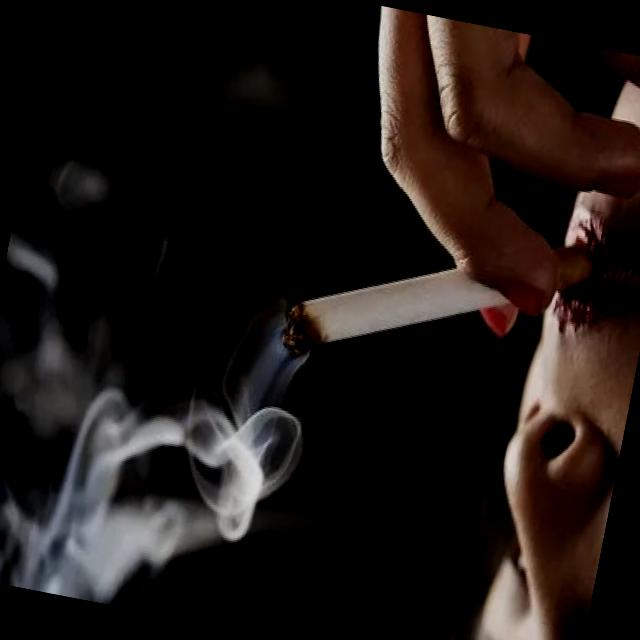smoke: (270, 176, 604, 420)
